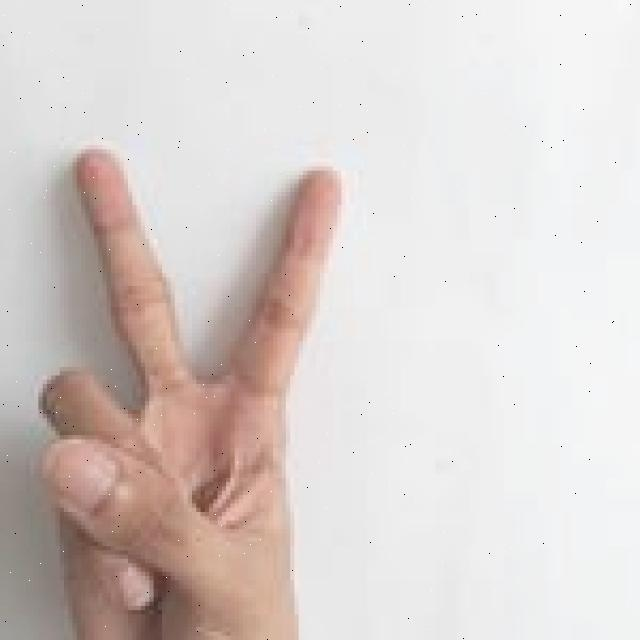V: (21, 135, 342, 640)
